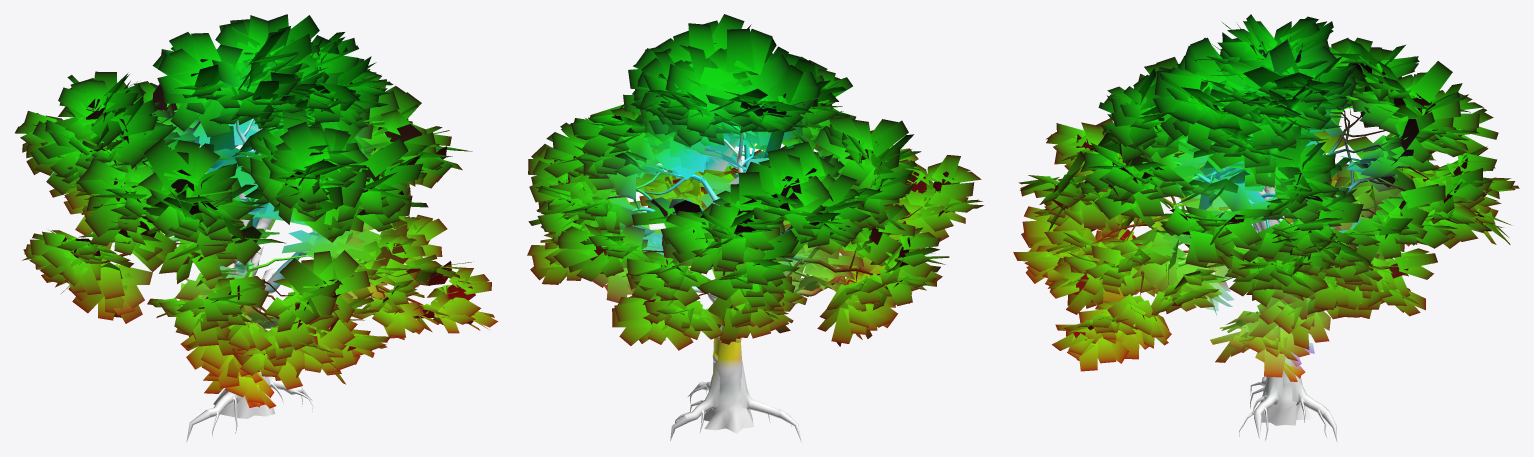
File: arden_forest_oak_03_green.fbx
3 views of the same model, side by side, from view 1: azimuth 30°, elevation 25°; view 2: azimuth 150°, elevation 25°; view 3: azimuth 270°, elevation 25° (orthographic). The views are drawn at different scales.
Parts seen in each view (by area): view 1: arden_forest_oak_03_green_leaves, arden_forest_oak_03_green_bark; view 2: arden_forest_oak_03_green_leaves, arden_forest_oak_03_green_bark; view 3: arden_forest_oak_03_green_leaves, arden_forest_oak_03_green_bark.
Boxes of the visible parts, box(x1,y1,x2,y2) form: arden_forest_oak_03_green_leaves: box(15, 14, 497, 408); arden_forest_oak_03_green_bark: box(101, 118, 422, 442); arden_forest_oak_03_green_leaves: box(527, 14, 983, 350); arden_forest_oak_03_green_bark: box(606, 125, 921, 442); arden_forest_oak_03_green_leaves: box(1013, 14, 1519, 381); arden_forest_oak_03_green_bark: box(1095, 108, 1429, 442).
Size of the model in its own units: 17.05 by 17.4 by 15.44.
